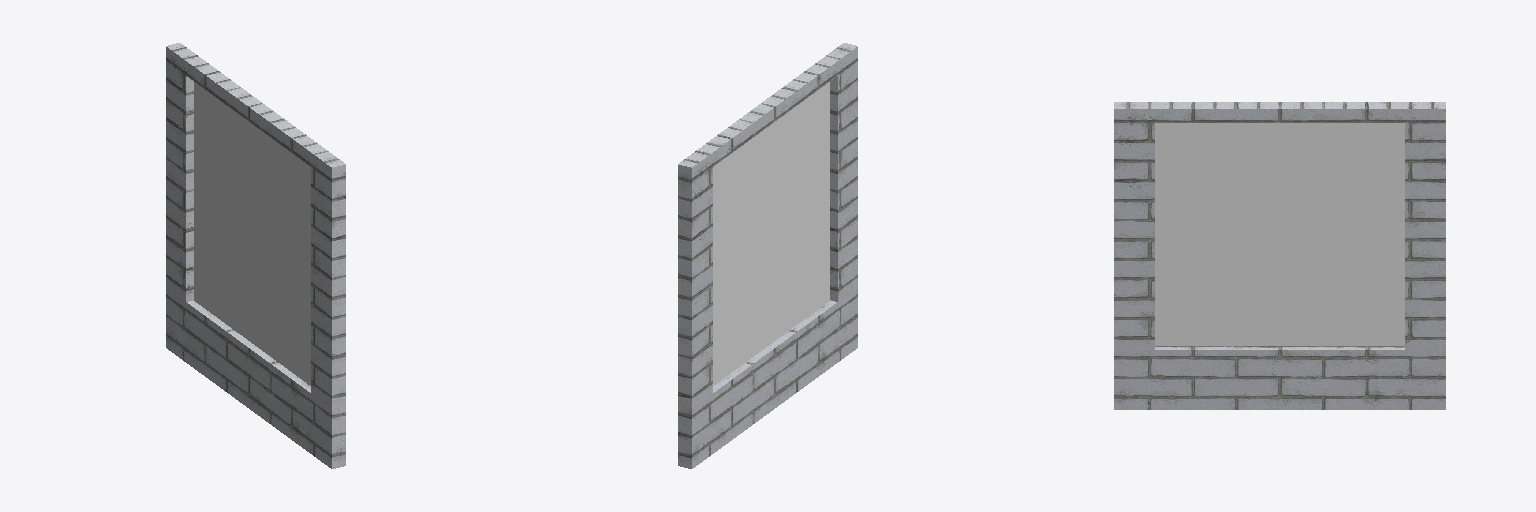
3 renders of one model, left to right at view 1: azimuth 30°, elevation 25°; view 2: azimuth 150°, elevation 25°; view 3: azimuth 270°, elevation 25°, orthographic.
Visible parts, largest first — view 1: Plane_Plane.001; view 2: Plane_Plane.001; view 3: Plane_Plane.001.
Boxes of the visible parts, x1,y1,x2,y2 form: Plane_Plane.001: [166, 43, 345, 468]; Plane_Plane.001: [678, 43, 857, 468]; Plane_Plane.001: [1114, 102, 1445, 409].
Size of the model in its own units: 0.1 by 2 by 2.
Materials: 2 (1 with a texture image).